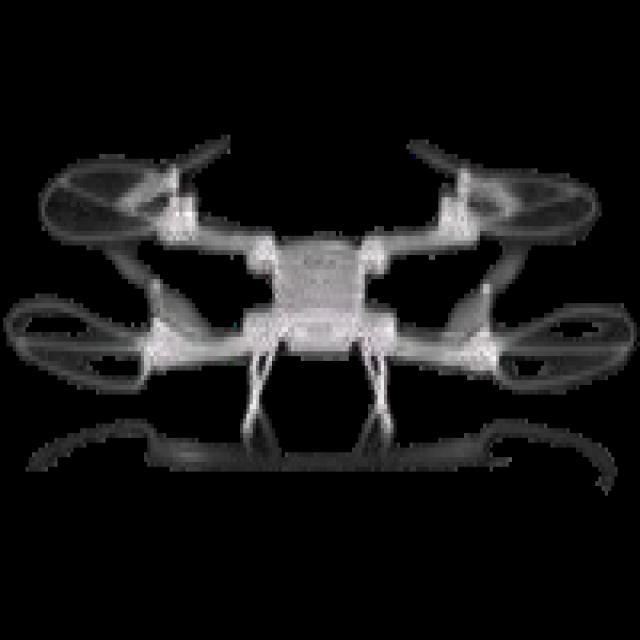drone: (10, 80, 634, 551)
